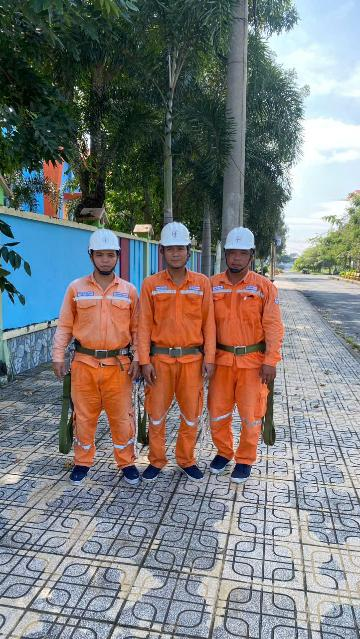harness: (66, 330, 133, 366), (147, 333, 205, 361), (217, 333, 266, 359)
helmet: (152, 218, 196, 250), (221, 225, 260, 252), (88, 224, 120, 255)
shoes: (60, 462, 97, 485), (175, 463, 206, 487), (233, 455, 254, 484), (208, 450, 227, 477), (118, 465, 139, 487), (142, 459, 160, 484)
